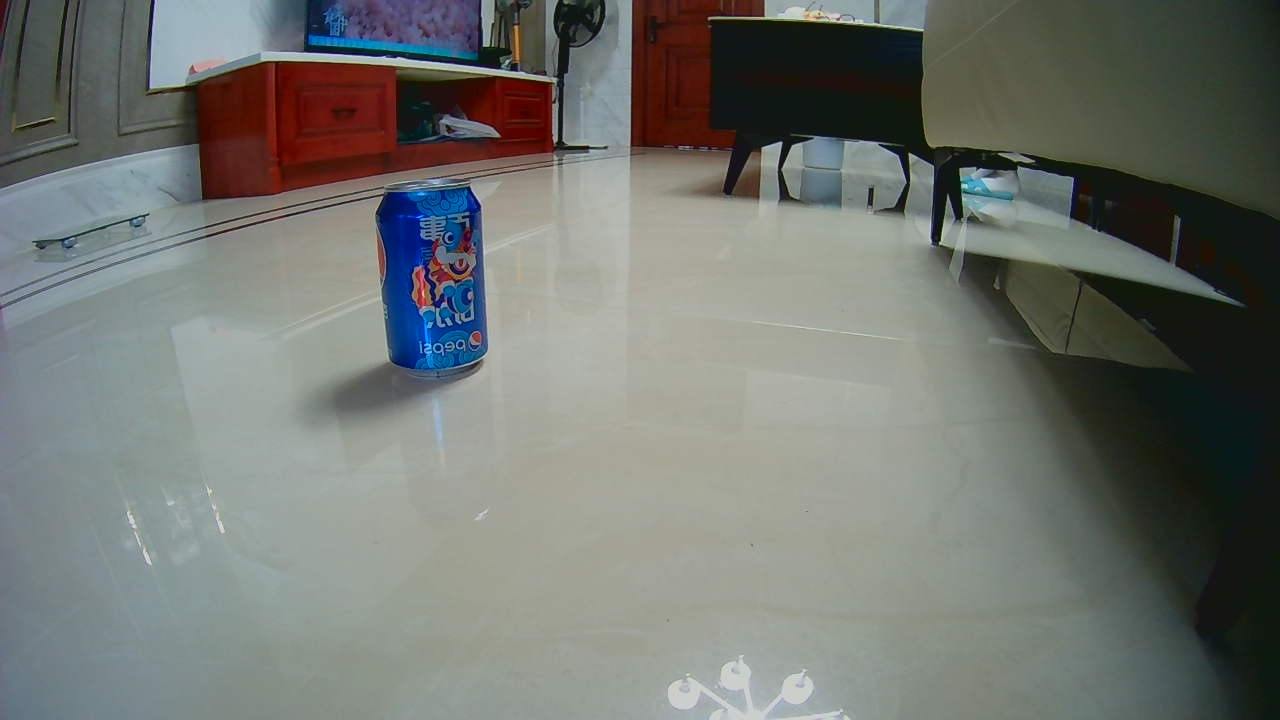pessi: (378, 190, 487, 381)
